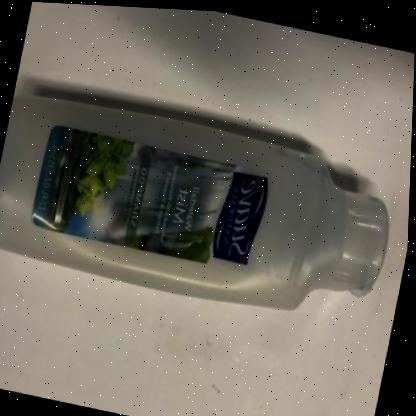Plastic: (0, 94, 390, 305)
